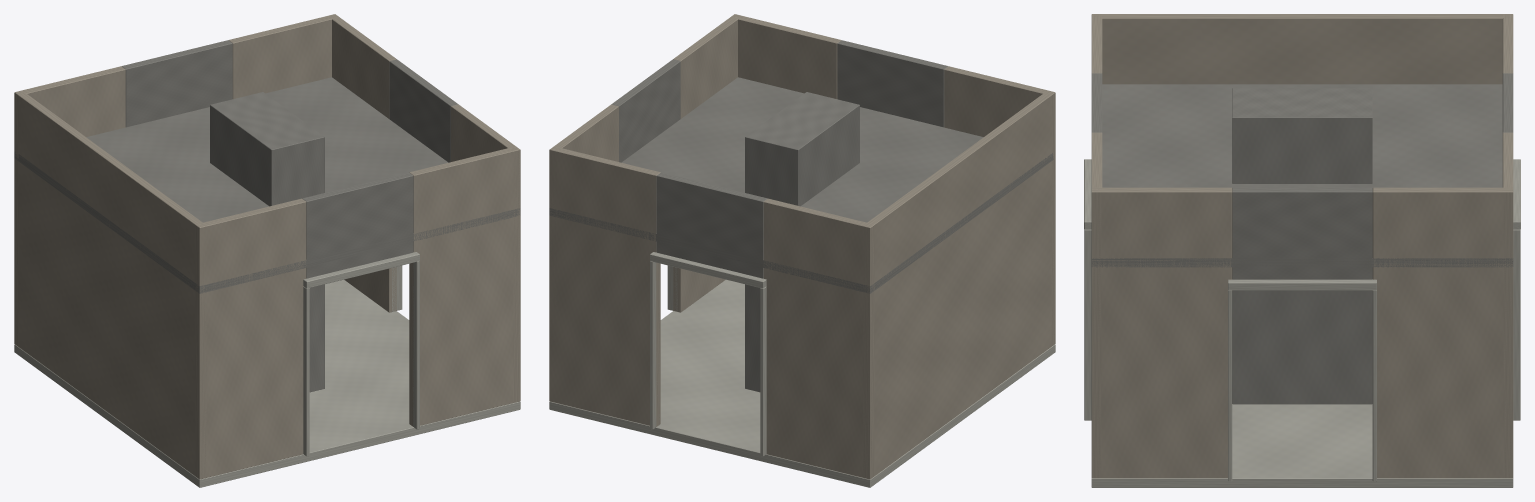
File: I05_SplitRoom_visual.glb
3 renders of one model, left to right at view 1: azimuth 30°, elevation 25°; view 2: azimuth 150°, elevation 25°; view 3: azimuth 270°, elevation 25°, orthographic. The views are drawn at different scales.
Parts seen in each view (by area): view 1: I05_SplitRoom__VIS_shell, I05_SplitRoom__VIS_roof; view 2: I05_SplitRoom__VIS_shell, I05_SplitRoom__VIS_roof; view 3: I05_SplitRoom__VIS_shell, I05_SplitRoom__VIS_roof.
Boxes of the visible parts, <box> form: I05_SplitRoom__VIS_shell: <box>14,14,520,487</box>; I05_SplitRoom__VIS_roof: <box>14,77,520,293</box>; I05_SplitRoom__VIS_shell: <box>549,14,1055,487</box>; I05_SplitRoom__VIS_roof: <box>549,77,1053,293</box>; I05_SplitRoom__VIS_shell: <box>1084,14,1520,487</box>; I05_SplitRoom__VIS_roof: <box>1091,84,1513,267</box>.
Size of the model in its own units: 24.43 by 18.6 by 24.86.
1 material, 1 textured.
